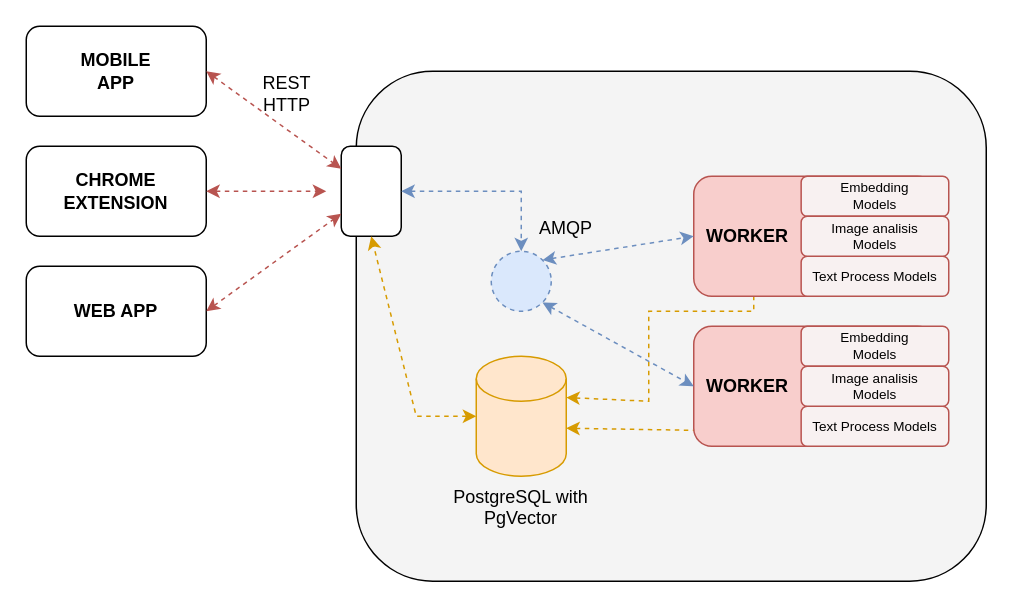
Image size: 1013x608. Some labels were removed from this diagram. Here are the shapes that lost their labels. From the top down, the box of each, then its label:
(340, 145, 401, 236): API
(490, 250, 551, 311): BROKER
